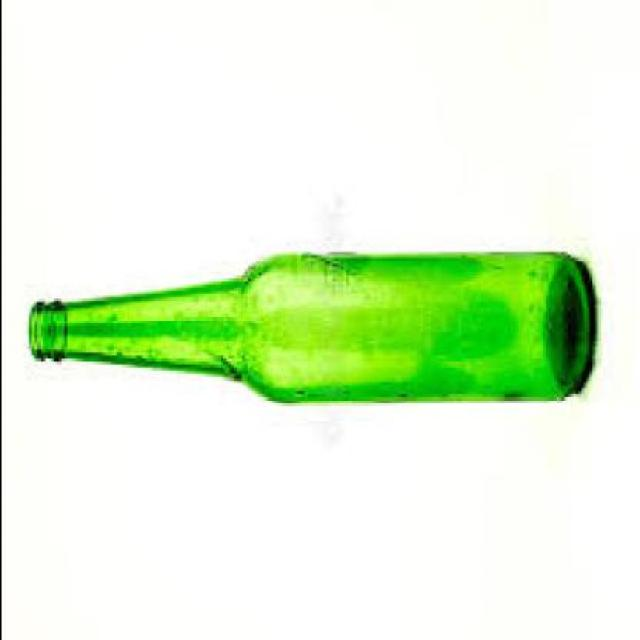GLASS: (24, 258, 590, 405)
